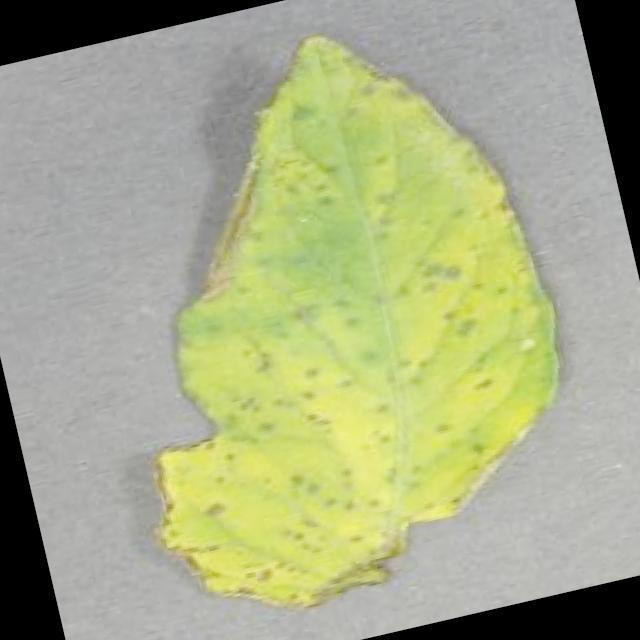Tomato bacterial spot leaf: (47, 0, 619, 640)
